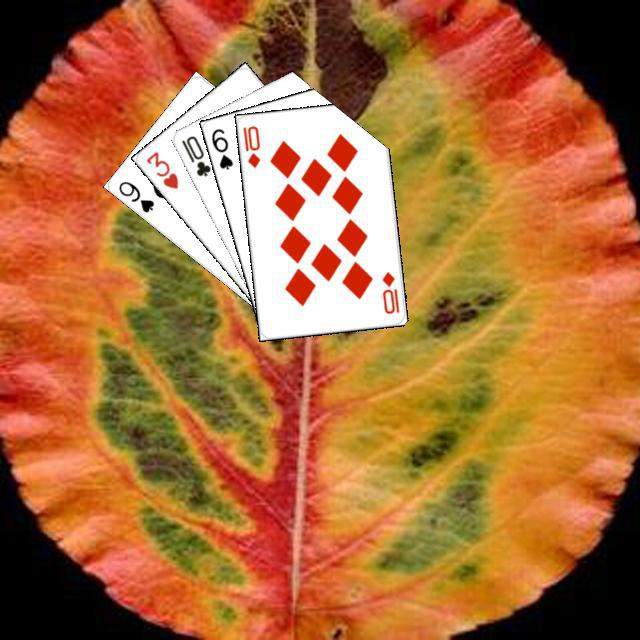10c: (176, 131, 212, 178)
10d: (377, 267, 401, 316), (238, 121, 262, 169)
3h: (141, 146, 180, 190)
6s: (206, 124, 235, 171)
9s: (113, 176, 156, 214)
